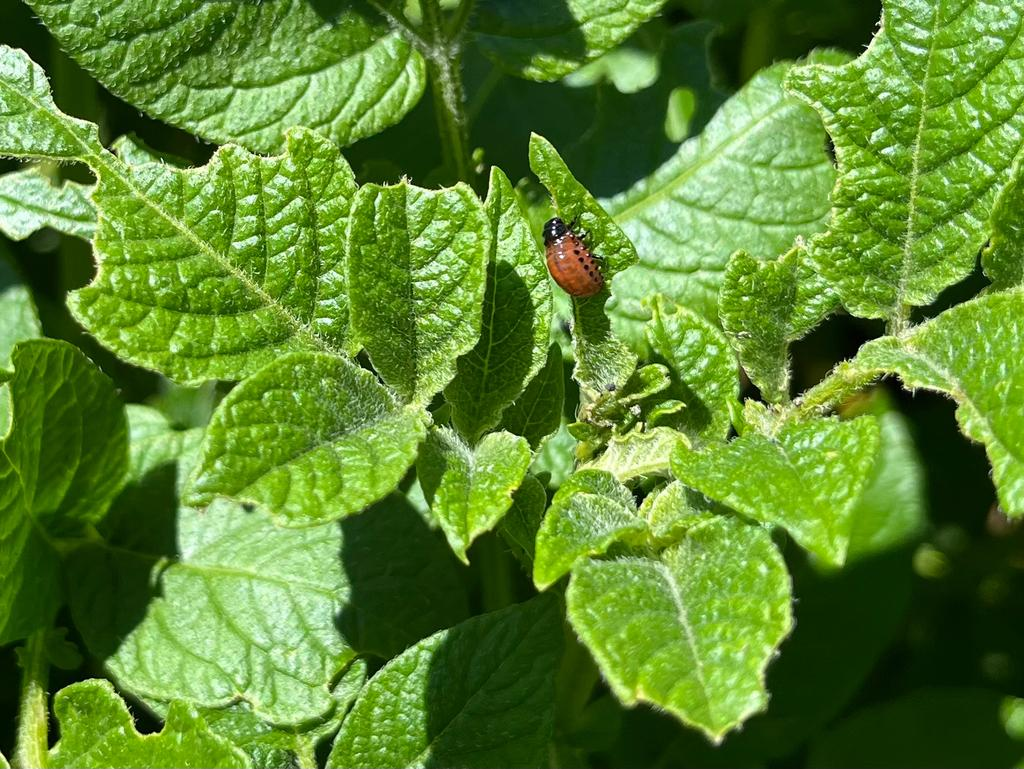potato_beetle: (518, 194, 634, 319)
